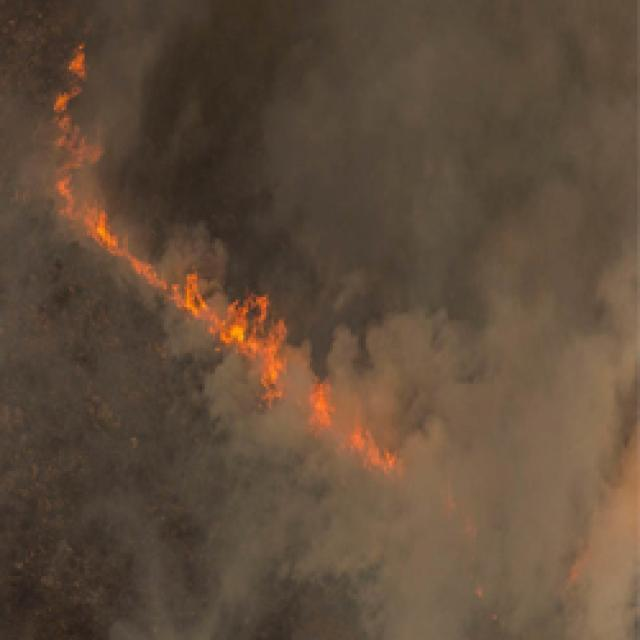Fire: (48, 42, 128, 255), (128, 258, 222, 339), (223, 292, 280, 401), (349, 427, 402, 473), (309, 376, 334, 428)
Smoke: (113, 14, 640, 264), (402, 366, 640, 640), (35, 257, 143, 640), (281, 261, 640, 376), (138, 334, 224, 640), (0, 97, 38, 639), (225, 400, 305, 640), (307, 476, 397, 640), (336, 376, 408, 420), (306, 426, 346, 482)
